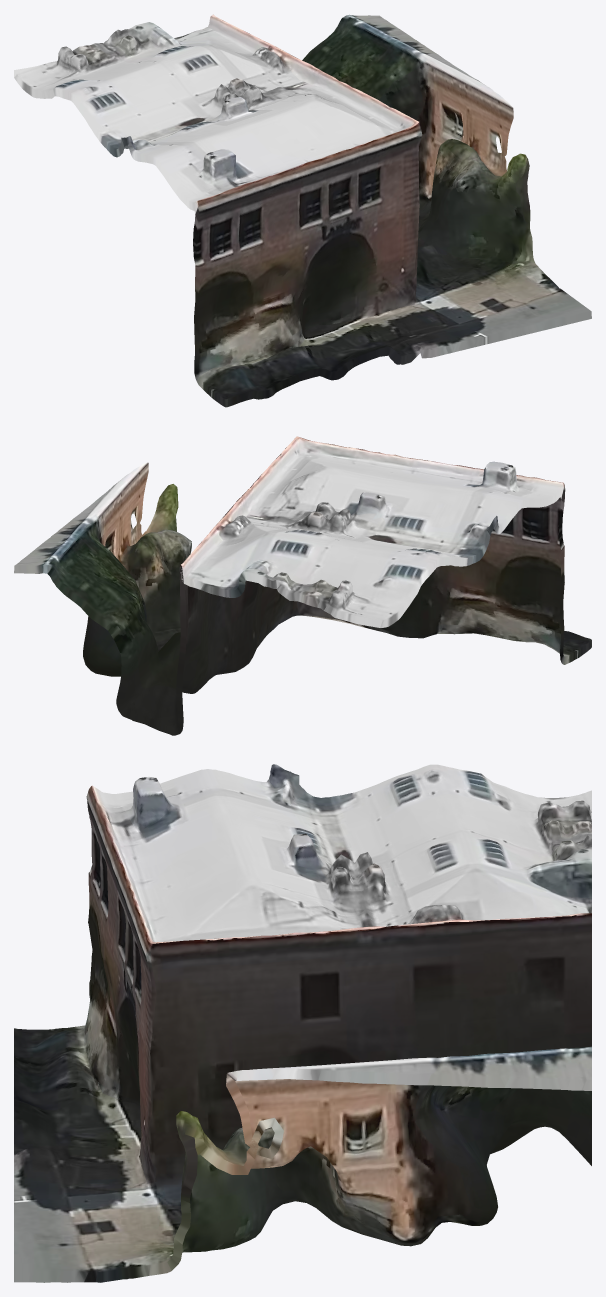
File: z20-167770-405200-h0-yup-uvflip-v3-world.glb
3 renders of one model, top to bottom at view 1: azimuth 30°, elevation 25°; view 2: azimuth 150°, elevation 25°; view 3: azimuth 270°, elevation 25°, orthographic. The views are drawn at different scales.
Bounding box in the file's own units: 30.2 × 16.48 × 30.32.
1 material, 1 textured.
